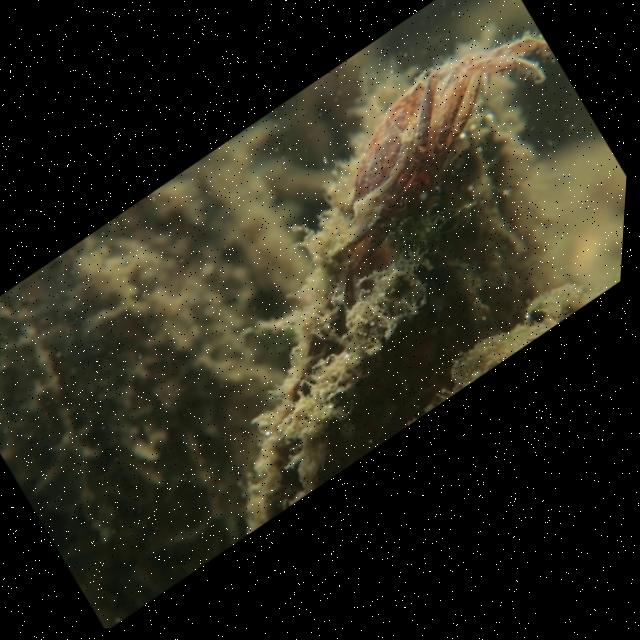Oyster-Open: (241, 40, 552, 533)
